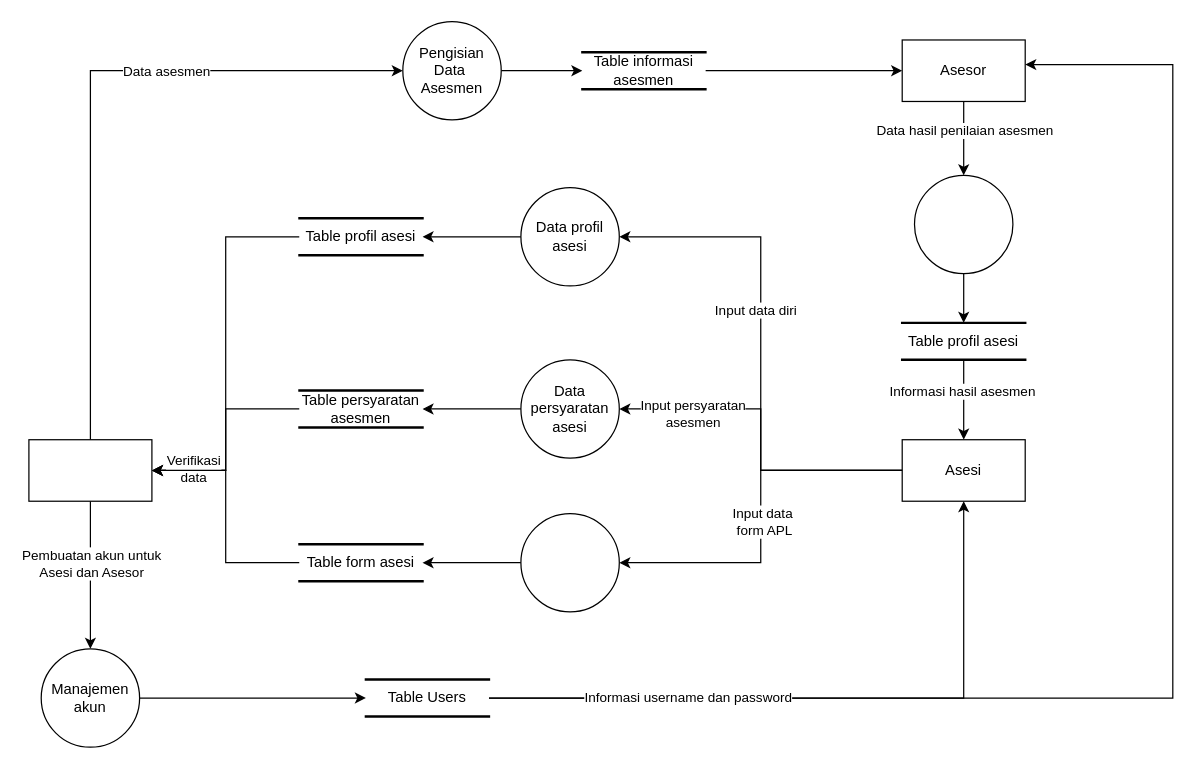
This 1204x769 diagram has some shape labels left out. The shapes that lost their labels are listed below. From the top down, each one's centre as x and y in pixels, then its label:
the point at 963,224: Penilaian asesmen
the point at 90,469: Admin
the point at 569,562: Data form APL
